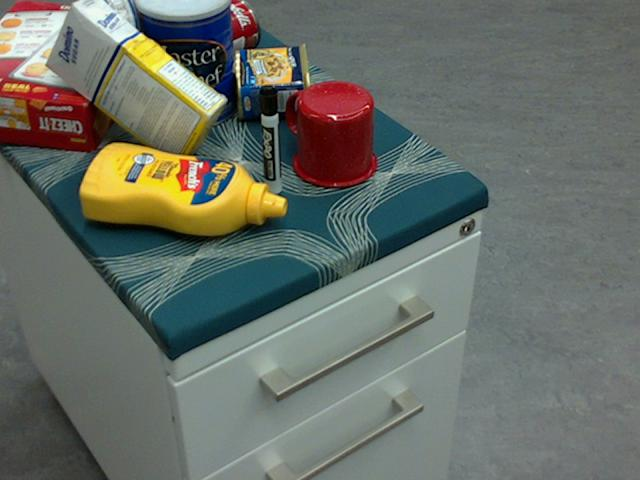cracker_box: (0, 2, 150, 153)
gelatin_box: (147, 0, 227, 43)
large_marker: (259, 84, 279, 193)
master_chef_can: (135, 0, 235, 129)
mug: (287, 79, 376, 187)
mustard_bottle: (79, 144, 287, 235)
potted_meat_can: (235, 42, 312, 118)
sugar_box: (46, 0, 229, 168)
tomato_soup_can: (163, 0, 260, 74)
tuna_fish_can: (83, 0, 140, 70)
